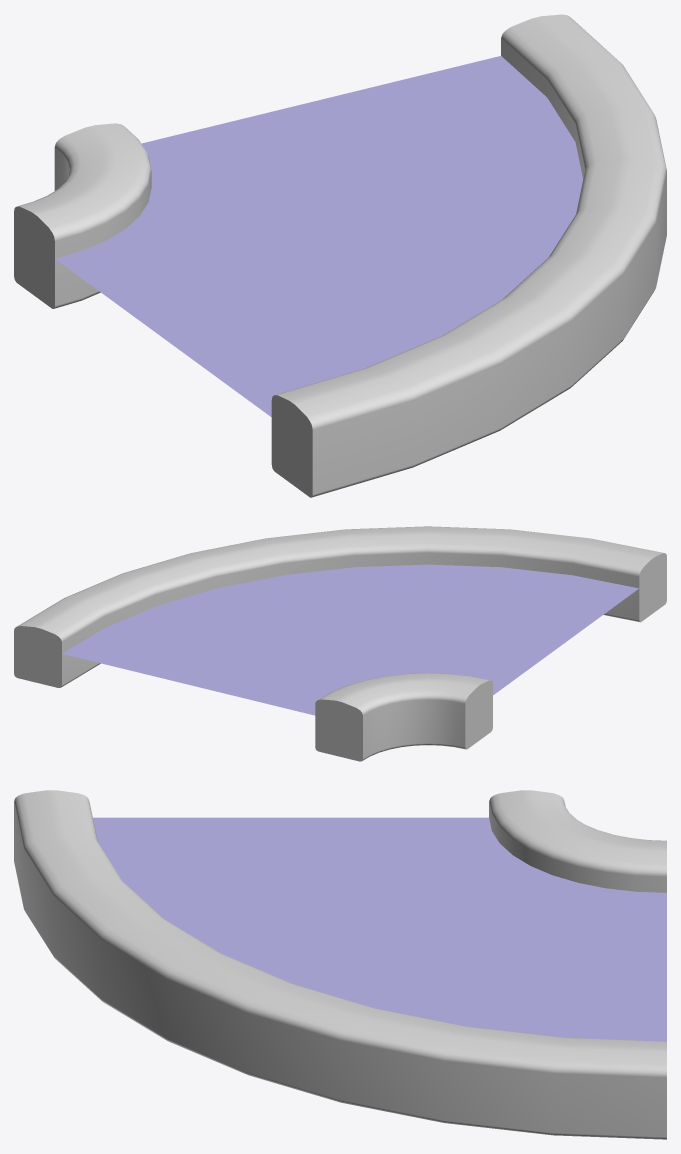
File: Rail_Corner.fbx
The picture shows the model from 3 angles, top to bottom: view 1: azimuth 30°, elevation 25°; view 2: azimuth 150°, elevation 25°; view 3: azimuth 270°, elevation 25°; orthographic projection. The views are drawn at different scales.
Visible parts, largest first — view 1: Rail_Corner; view 2: Rail_Corner; view 3: Rail_Corner.
Boxes of the visible parts, left/top/right/bottom form: Rail_Corner: left=14, top=14, right=666, bottom=497; Rail_Corner: left=14, top=526, right=666, bottom=761; Rail_Corner: left=14, top=790, right=666, bottom=1139.
Size of the model in its own units: 86.47 by 11 by 86.47.
